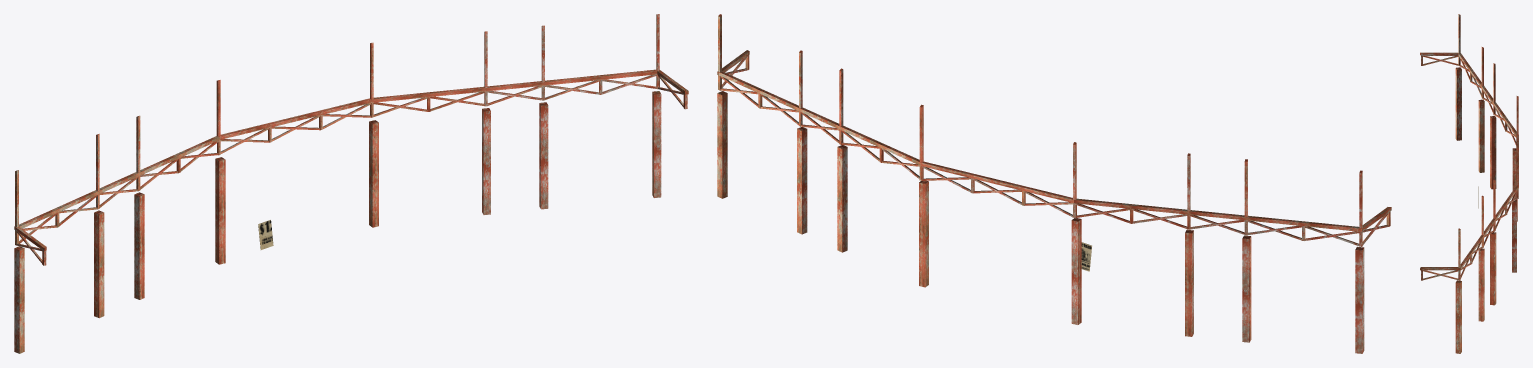
File: StaticMesh8.fbx
3 renders of one model, left to right at view 1: azimuth 30°, elevation 25°; view 2: azimuth 150°, elevation 25°; view 3: azimuth 270°, elevation 25°, orthographic. The views are drawn at different scales.
Visible parts, largest first — view 1: StaticMesh8; view 2: StaticMesh8; view 3: StaticMesh8.
Boxes of the visible parts, x1,y1,x2,y2 form: StaticMesh8: [14, 14, 688, 353]; StaticMesh8: [717, 14, 1391, 353]; StaticMesh8: [1420, 14, 1518, 353].
Bounding box in the file's own units: 161768 × 43565 × 31300.
